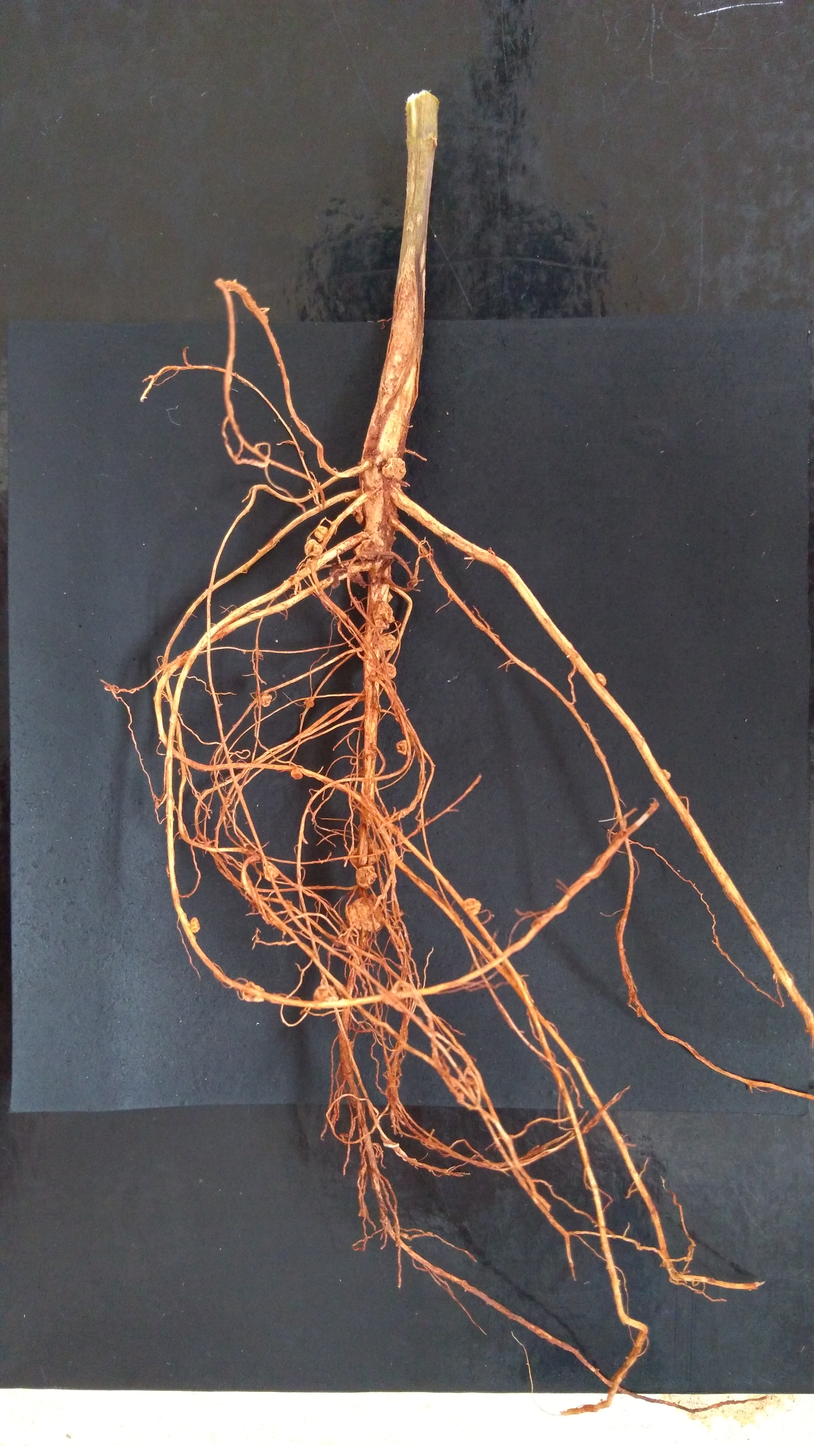nodule: (345, 896, 385, 933), (350, 839, 381, 867), (354, 537, 385, 560), (372, 602, 395, 629), (381, 457, 406, 481), (313, 983, 339, 1005), (355, 865, 378, 889), (240, 981, 265, 1002), (376, 661, 396, 681), (377, 632, 397, 651), (463, 898, 482, 917), (304, 539, 323, 557), (329, 561, 349, 577), (263, 864, 279, 881), (314, 525, 329, 542), (352, 505, 364, 525), (395, 739, 408, 755), (246, 848, 257, 866), (189, 917, 201, 933), (595, 672, 606, 687), (290, 768, 303, 780), (261, 693, 272, 707), (339, 1132, 349, 1144), (303, 697, 314, 707), (660, 769, 670, 780), (386, 591, 394, 604), (285, 899, 293, 909), (288, 575, 295, 581), (344, 497, 350, 503), (299, 450, 304, 457), (353, 472, 358, 477), (358, 461, 361, 466)
